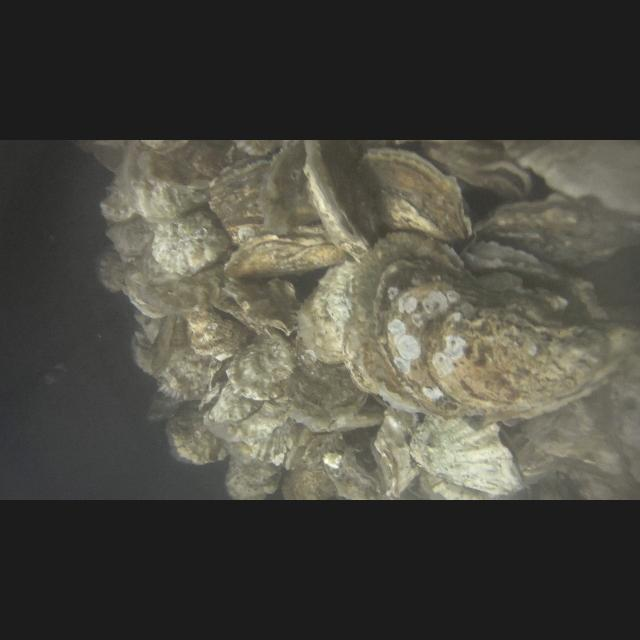Oyster-Closed: (344, 232, 640, 426), (472, 192, 640, 266), (356, 146, 474, 250), (411, 414, 529, 496), (304, 140, 371, 262), (122, 140, 212, 222), (282, 356, 384, 428), (296, 263, 359, 363), (208, 274, 302, 338), (209, 154, 275, 242), (262, 140, 324, 230), (158, 316, 222, 400), (222, 233, 346, 275), (307, 434, 381, 501), (152, 212, 228, 272), (228, 336, 298, 400), (122, 260, 198, 318), (372, 408, 418, 500), (166, 399, 230, 465), (203, 401, 294, 441), (188, 308, 250, 359), (224, 448, 282, 499), (211, 380, 267, 426), (104, 214, 154, 256)
Oyster-Open: (462, 239, 612, 323), (425, 142, 533, 202)
